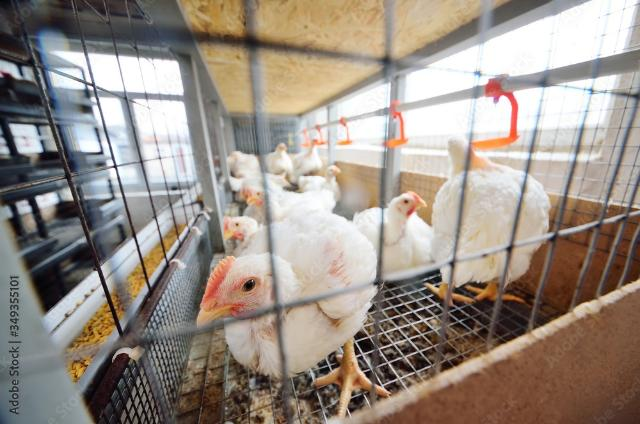Chicken: (198, 209, 394, 417), (430, 137, 553, 307), (353, 190, 438, 279), (244, 186, 337, 222), (293, 167, 343, 207), (218, 210, 267, 245), (228, 149, 264, 180), (263, 141, 295, 174), (297, 139, 324, 177)
